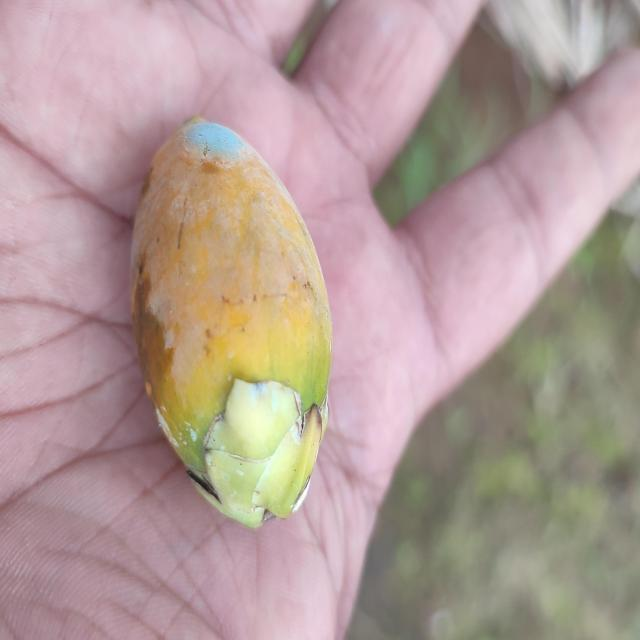good: (127, 118, 335, 534)
